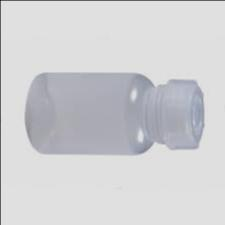Plastic: (23, 70, 207, 159)
